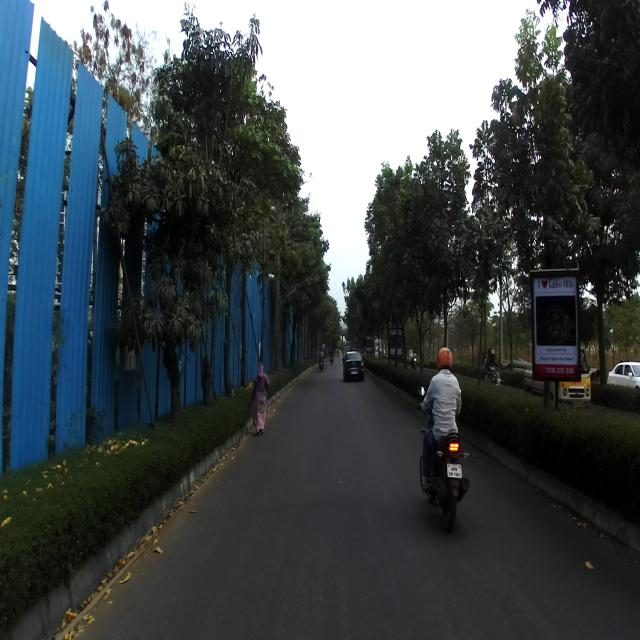motorcycle ahead at: (416, 429, 470, 527)
person ahead at: (247, 356, 274, 434)
